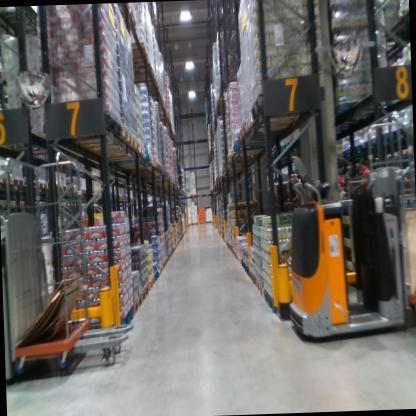pallet: (249, 81, 323, 123), (48, 117, 134, 151), (53, 103, 124, 142), (238, 116, 297, 142), (244, 109, 294, 133), (77, 138, 140, 157), (93, 306, 135, 333), (0, 8, 35, 37), (230, 143, 271, 162), (264, 286, 282, 323), (231, 135, 267, 152), (127, 37, 149, 61), (0, 67, 14, 96), (53, 177, 71, 197), (8, 171, 26, 190), (35, 176, 54, 194), (215, 92, 230, 109), (76, 186, 94, 200), (131, 295, 142, 316), (256, 277, 266, 298), (399, 3, 409, 23), (0, 173, 12, 188), (141, 284, 150, 303), (9, 195, 20, 209), (20, 198, 33, 209), (250, 271, 258, 288), (0, 196, 9, 210), (152, 271, 160, 285), (149, 275, 155, 293), (241, 256, 247, 273), (246, 262, 251, 279), (161, 259, 167, 272), (157, 264, 164, 275), (237, 251, 241, 264), (206, 220, 214, 225), (200, 220, 206, 226), (165, 256, 169, 264), (192, 222, 198, 226)
pallet_truck: (283, 104, 416, 349)
